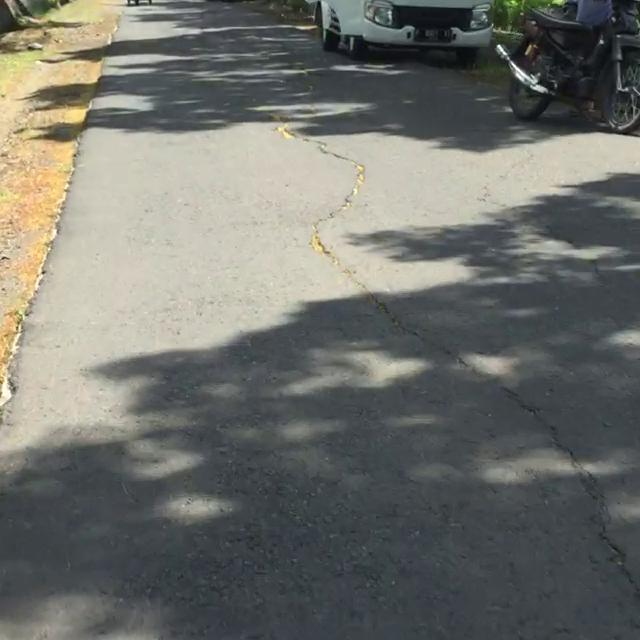retak_memanjang: (400, 317, 640, 640), (254, 104, 387, 306)
